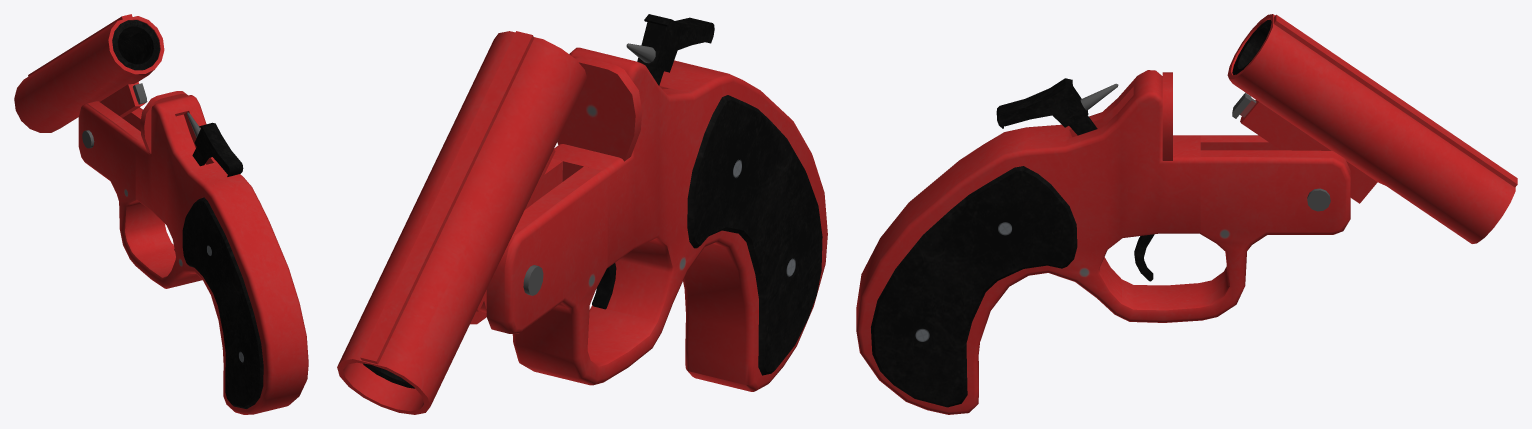
Rendered from 017_Flare_Gun_cc0.glb.
3 views of the same model, side by side, from view 1: azimuth 30°, elevation 25°; view 2: azimuth 150°, elevation 25°; view 3: azimuth 270°, elevation 25° (orthographic). The views are drawn at different scales.
Parts seen in each view (by area): view 1: Body, Barrel, Hammer; view 2: Body, Barrel, Hammer, Trigger; view 3: Body, Barrel, Hammer.
Boxes of the visible parts, x1,y1,x2,y2 form: Body: (78, 91, 308, 414); Barrel: (14, 14, 164, 148); Hammer: (187, 112, 243, 176); Body: (470, 47, 827, 391); Barrel: (337, 31, 587, 414); Hammer: (626, 14, 714, 85); Trigger: (592, 263, 616, 309); Body: (856, 70, 1350, 414); Barrel: (1227, 14, 1517, 243); Hammer: (996, 78, 1118, 135).
Bounding box in the file's own units: 0.0327 × 0.1768 × 0.2743.
Materials: 1 (1 with a texture image).
